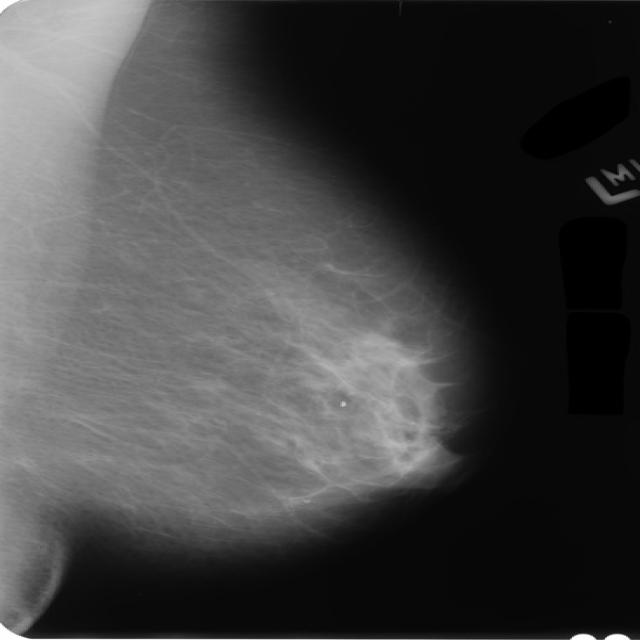tumour: (356, 332, 399, 366)
